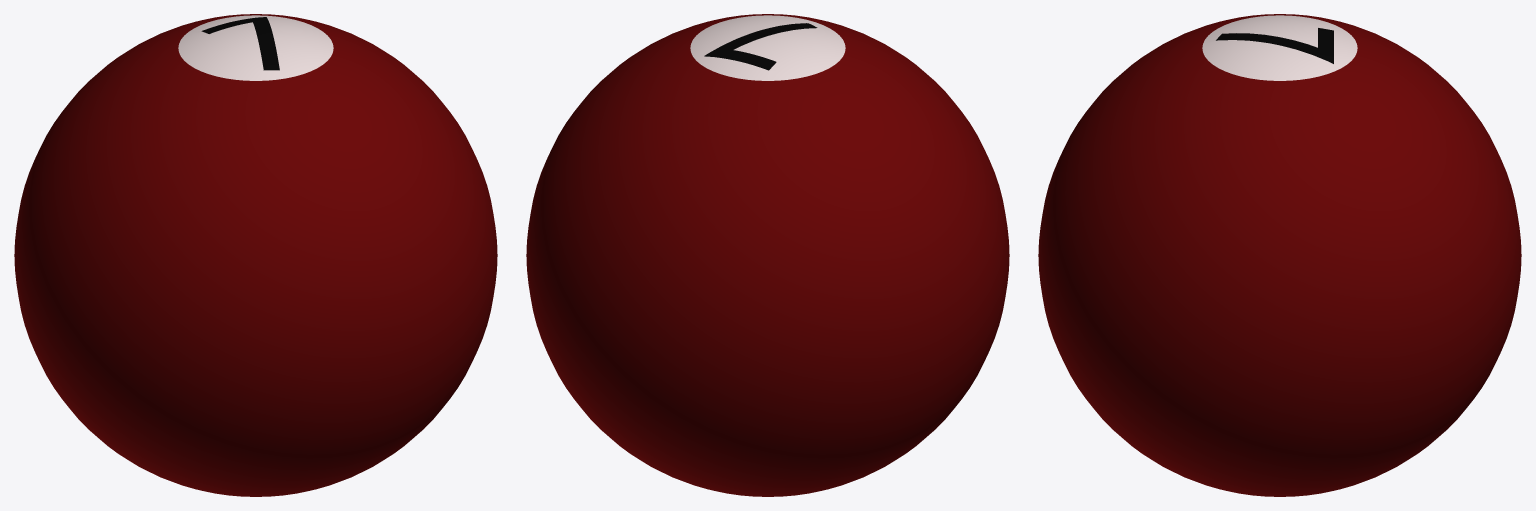
The model's file is sevenBall.glb.
3 renders of one model, left to right at view 1: azimuth 30°, elevation 25°; view 2: azimuth 150°, elevation 25°; view 3: azimuth 270°, elevation 25°, orthographic.
Visible parts, largest first — view 1: Sphere; view 2: Sphere; view 3: Sphere.
Part boxes in pixels (x1,y1,x2,y2): Sphere: [14, 14, 497, 496]; Sphere: [526, 14, 1009, 496]; Sphere: [1038, 14, 1521, 496].
Size of the model in its own units: 0.127 by 0.127 by 0.127.
